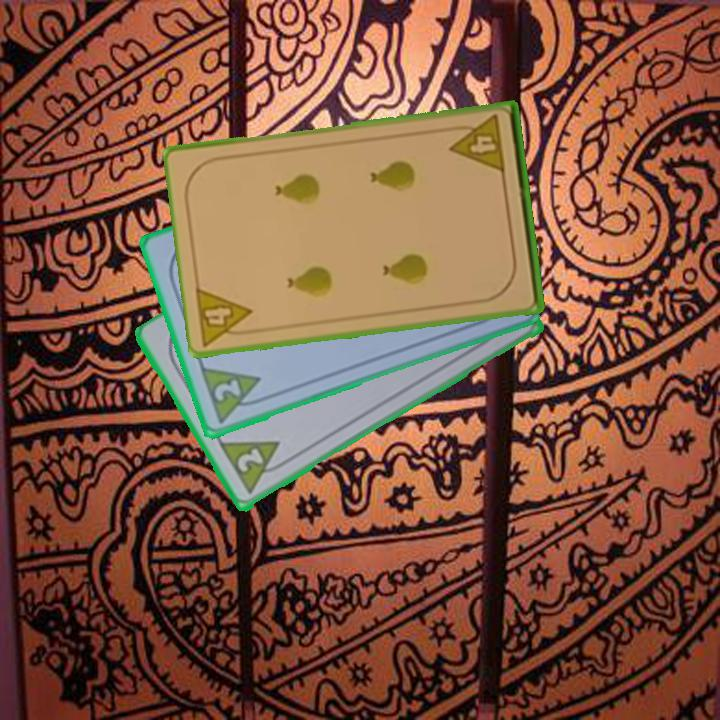2p: (216, 437, 293, 499), (210, 376, 244, 405)
4p: (192, 284, 260, 349), (446, 112, 508, 177)
